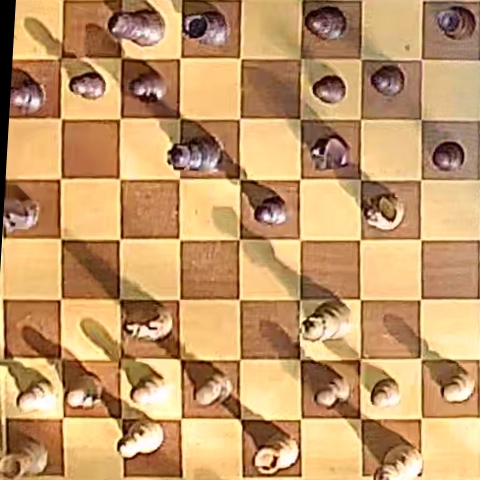black-bishop: (305, 6, 347, 40)
black-king: (108, 9, 165, 47)
black-knight: (311, 136, 349, 170), (4, 198, 40, 233)
black-pawn: (129, 70, 166, 102), (11, 80, 45, 113), (371, 65, 405, 97), (70, 71, 106, 100), (312, 75, 346, 104), (432, 142, 465, 171), (255, 197, 287, 226)
black-queen: (168, 137, 223, 172)
black-rook: (183, 10, 229, 46), (436, 5, 476, 40)
white-bishop: (118, 420, 163, 458)
white-king: (375, 444, 422, 479)
white-knight: (123, 302, 172, 342), (363, 193, 404, 230)
white-pawn: (66, 373, 102, 409), (196, 371, 233, 406), (440, 367, 475, 403), (315, 374, 351, 407), (17, 382, 56, 412), (131, 374, 167, 405), (371, 378, 401, 408)
white-queen: (303, 300, 352, 342)
white-rook: (1, 439, 48, 478), (255, 435, 299, 475)
